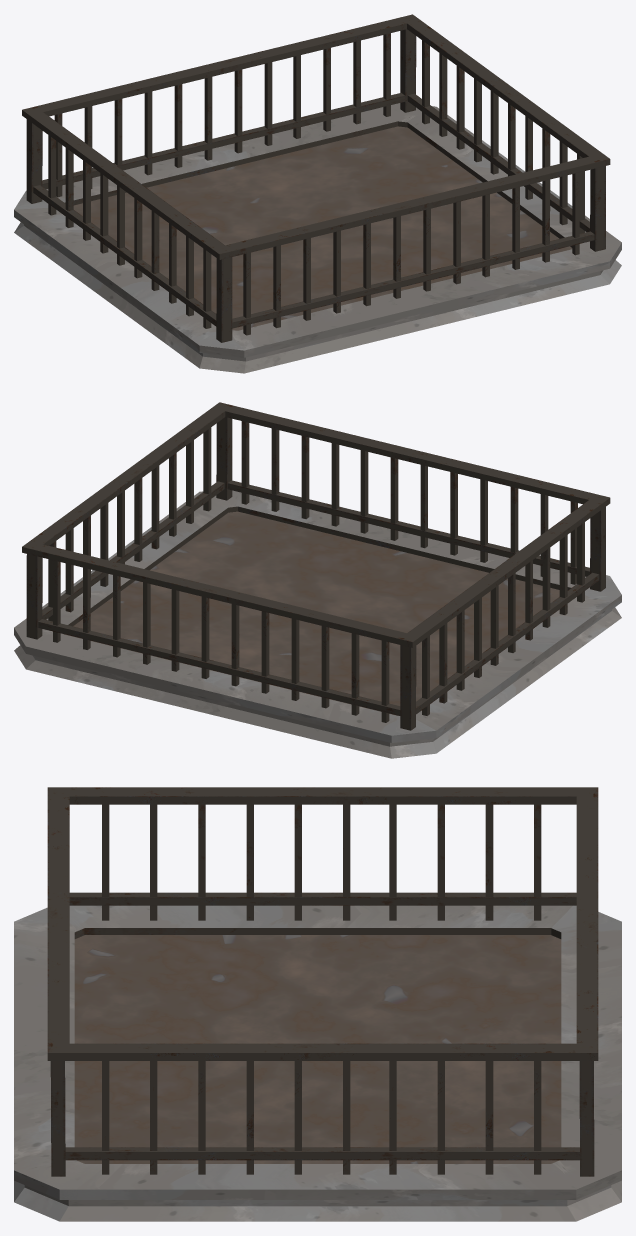
The model's file is Sidewalk_Planter.gltf.
3 views of the same model, one above another, from view 1: azimuth 30°, elevation 25°; view 2: azimuth 150°, elevation 25°; view 3: azimuth 270°, elevation 25° (orthographic). The views are drawn at different scales.
Parts seen in each view (by area): view 1: Sidewalk_Planter; view 2: Sidewalk_Planter; view 3: Sidewalk_Planter.
Boxes of the visible parts, left/top/right/bottom form: Sidewalk_Planter: left=14, top=14, right=621, bottom=373; Sidewalk_Planter: left=14, top=402, right=621, bottom=758; Sidewalk_Planter: left=14, top=787, right=621, bottom=1221.
Bounding box in the file's own units: 1.97 × 0.5057 × 1.77.
Materials: 2 (2 with a texture image).
